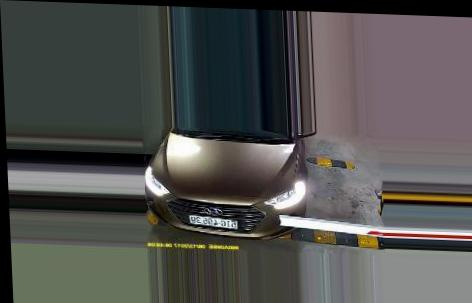License_Plate: (187, 212, 241, 230)
